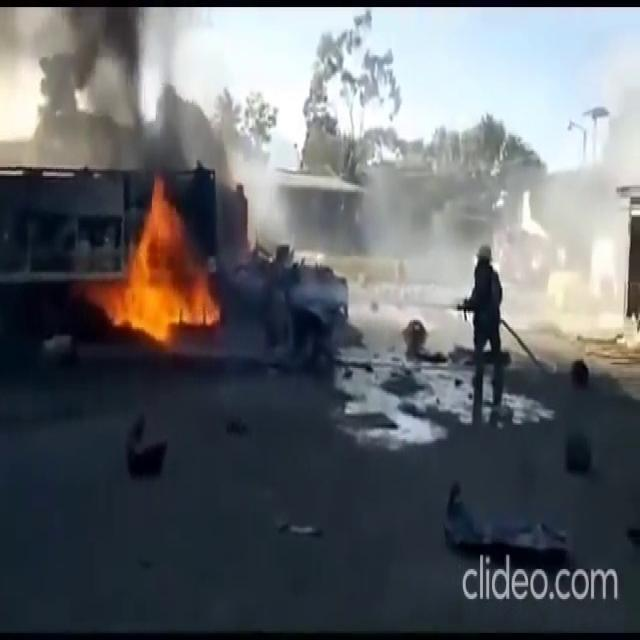Fire: (82, 175, 218, 350)
Smoke: (18, 11, 254, 174), (534, 110, 638, 336), (358, 118, 448, 310)
